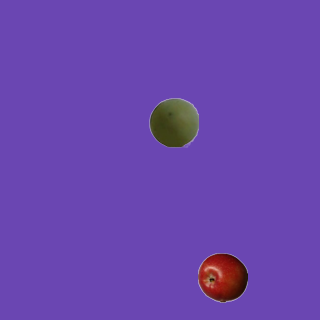Apple Braeburn: (197, 252, 247, 302)
Grape White 4: (148, 97, 198, 147)
